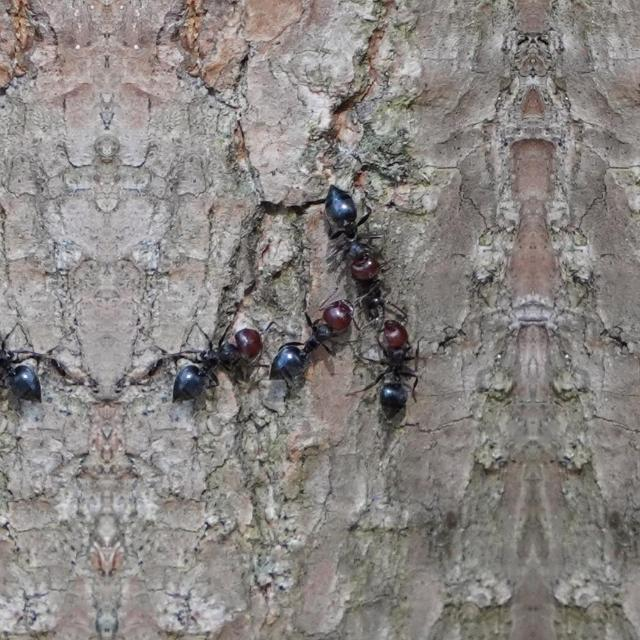Crematogaster: (312, 174, 386, 286), (259, 298, 353, 382), (170, 320, 264, 404), (366, 293, 424, 421), (0, 320, 41, 404)
